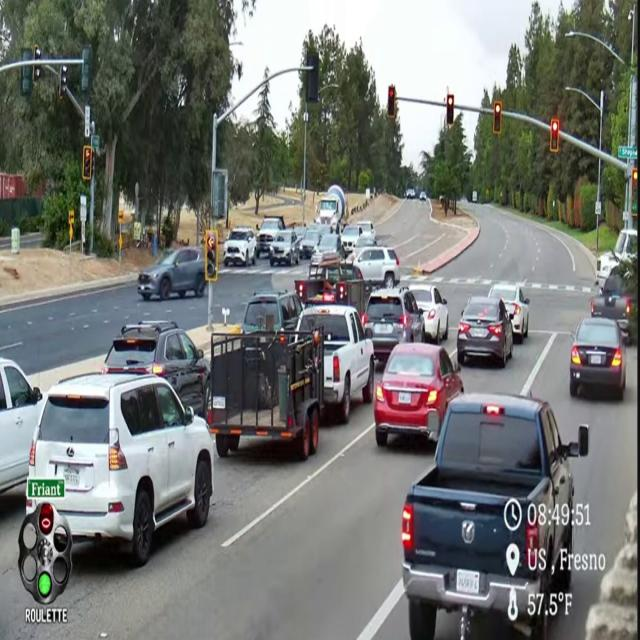car: (26, 374, 213, 566), (102, 320, 210, 415), (374, 344, 463, 446), (0, 358, 42, 493), (362, 288, 425, 361), (570, 318, 626, 399), (457, 297, 513, 367), (138, 248, 205, 300), (242, 291, 302, 332), (488, 284, 529, 343), (409, 283, 448, 343), (353, 247, 400, 288), (224, 227, 256, 266), (269, 230, 299, 266), (311, 232, 344, 263), (347, 235, 375, 263), (341, 224, 362, 254), (300, 228, 320, 259), (358, 221, 376, 244), (406, 189, 415, 199), (419, 192, 427, 201)
traffic signal: (204, 230, 218, 282), (306, 51, 319, 103), (81, 45, 92, 94), (39, 504, 54, 535), (20, 66, 32, 96), (82, 145, 92, 181), (493, 101, 502, 135), (550, 119, 559, 152), (387, 86, 396, 119), (631, 168, 637, 216), (59, 65, 67, 99), (446, 95, 454, 126), (33, 65, 41, 82)
truck: (402, 394, 589, 639), (207, 330, 324, 460), (297, 304, 374, 423), (591, 270, 633, 342), (295, 280, 368, 317), (596, 229, 637, 287), (317, 184, 347, 231), (256, 216, 285, 258)
